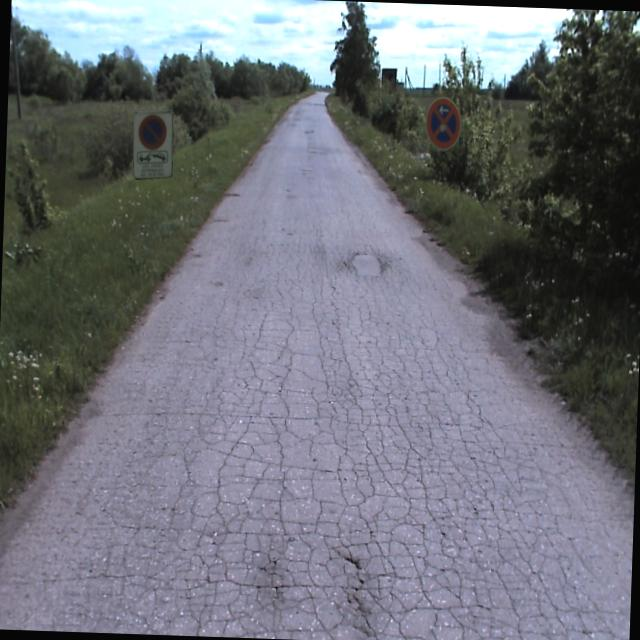road: (0, 95, 633, 640)
